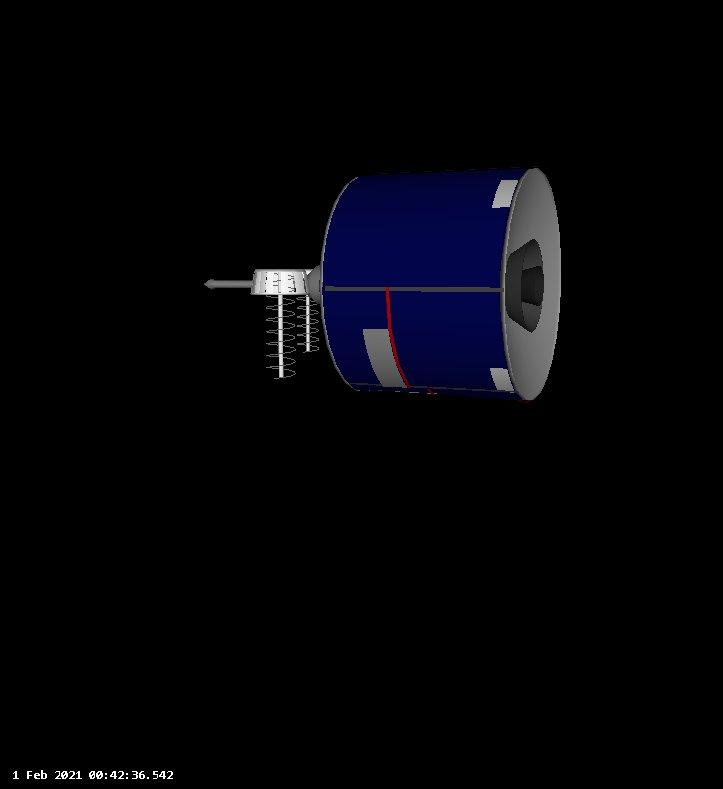antenna: (201, 266, 322, 298), (260, 289, 297, 384), (292, 281, 323, 356)
body: (320, 167, 565, 400)
solar: (323, 167, 530, 395)
thruster: (506, 236, 548, 333)
